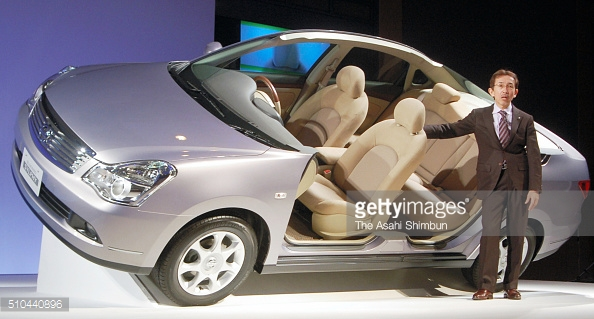em pe: (406, 54, 541, 310)
